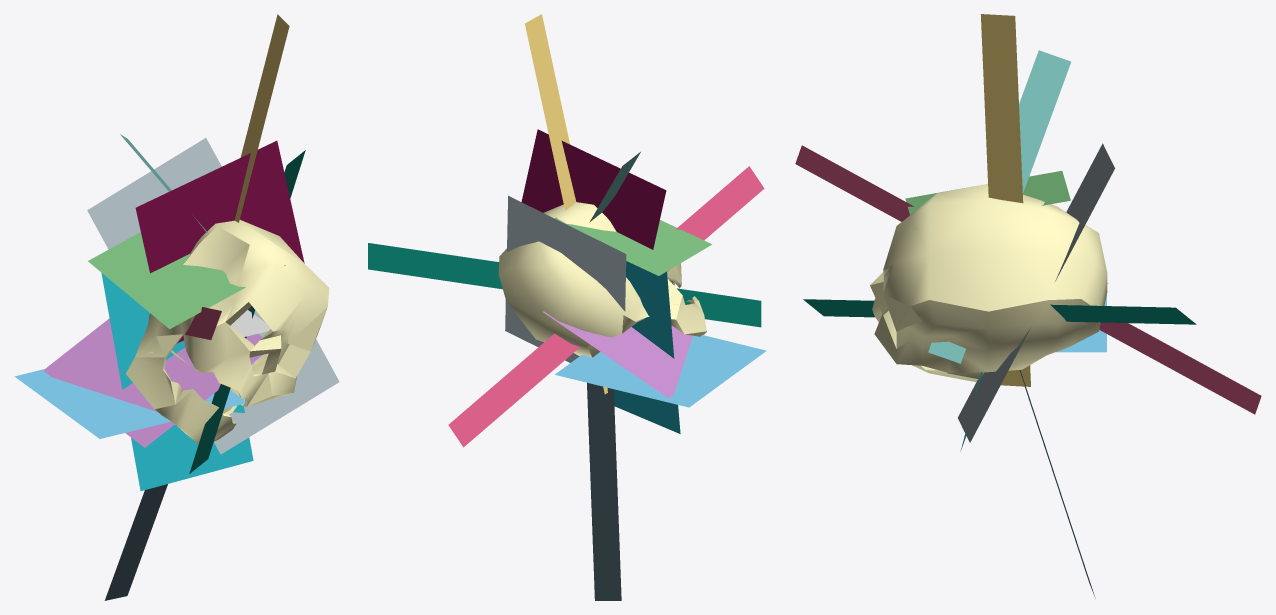
File: skull2.glb
3 renders of one model, left to right at view 1: azimuth 30°, elevation 25°; view 2: azimuth 150°, elevation 25°; view 3: azimuth 270°, elevation 25°, orthographic. The views are drawn at different scales.
Visible parts, largest first — view 1: skull2, Plane.016, Plane.022, Plane.073, Plane.066, Plane.064, Plane.057, Plane.004, Plane.013, Plane.036, Plane.045, Plane.050; view 2: skull2, Plane.016, Plane.045, Plane.013, Plane.057, Plane.022, Plane.036, Plane.073, Plane.064, Plane.004, Plane.066, Plane.030; view 3: skull2, Plane.004, Plane.045, Plane.030, Plane.022, Plane.036, Plane.066, Plane.057.
Part boxes in pixels (bbox=[...]): skull2: bbox=[125, 220, 329, 444]; Plane.016: bbox=[135, 140, 304, 343]; Plane.022: bbox=[87, 138, 339, 454]; Plane.073: bbox=[101, 273, 253, 490]; Plane.066: bbox=[88, 232, 285, 329]; Plane.064: bbox=[43, 318, 262, 447]; Plane.057: bbox=[14, 369, 244, 438]; Plane.004: bbox=[234, 14, 289, 222]; Plane.013: bbox=[104, 484, 167, 600]; Plane.036: bbox=[189, 150, 305, 473]; Plane.045: bbox=[185, 307, 221, 339]; Plane.050: bbox=[230, 310, 270, 336]; skull2: bbox=[498, 202, 706, 357]; Plane.016: bbox=[521, 129, 666, 249]; Plane.045: bbox=[448, 166, 764, 447]; Plane.013: bbox=[587, 382, 621, 600]; Plane.057: bbox=[555, 335, 766, 407]; Plane.022: bbox=[505, 195, 626, 362]; Plane.036: bbox=[368, 243, 761, 327]; Plane.073: bbox=[614, 261, 680, 433]; Plane.064: bbox=[543, 311, 692, 397]; Plane.004: bbox=[524, 14, 607, 394]; Plane.066: bbox=[554, 217, 711, 275]; Plane.030: bbox=[589, 152, 640, 222]; skull2: bbox=[870, 184, 1107, 382]; Plane.004: bbox=[980, 14, 1030, 386]; Plane.045: bbox=[795, 145, 1261, 414]; Plane.030: bbox=[928, 50, 1070, 363]; Plane.022: bbox=[958, 143, 1114, 442]; Plane.036: bbox=[803, 299, 1196, 324]; Plane.066: bbox=[905, 171, 1070, 228]; Plane.057: bbox=[1056, 294, 1106, 352].
Size of what is drawn, in the model's own units: 12.17 by 20.95 by 13.69.
Materials: 1 (1 with a texture image).
